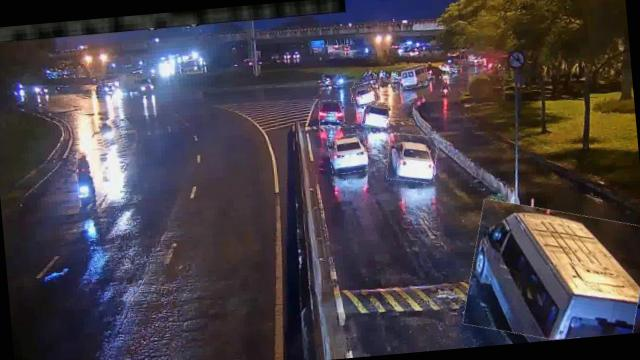Bike: (98, 118, 125, 152), (77, 168, 97, 207), (76, 152, 92, 178)
Bus: (460, 194, 640, 346), (385, 132, 440, 184), (398, 65, 430, 90), (350, 81, 380, 106)
Car: (386, 132, 441, 184), (327, 132, 369, 174), (362, 101, 392, 129), (350, 81, 380, 106), (318, 99, 344, 127)
